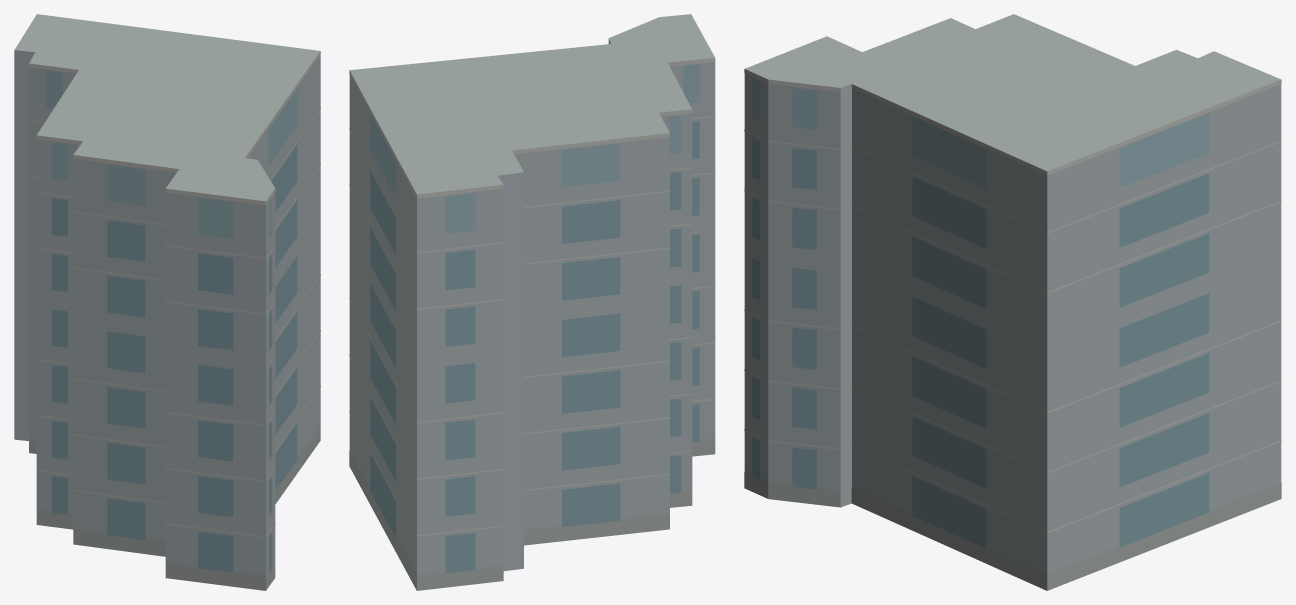
Rendered from survey-upis-32998021.glb.
The picture shows the model from 3 angles, left to right: view 1: azimuth 30°, elevation 25°; view 2: azimuth 150°, elevation 25°; view 3: azimuth 270°, elevation 25°; orthographic projection. The views are drawn at different scales.
Parts seen in each view (by area): view 1: survey-upis-32998021.tmp; view 2: survey-upis-32998021.tmp; view 3: survey-upis-32998021.tmp.
Boxes of the visible parts, x1,y1,x2,y2 form: survey-upis-32998021.tmp: [14, 14, 320, 590]; survey-upis-32998021.tmp: [349, 14, 715, 590]; survey-upis-32998021.tmp: [744, 14, 1281, 590].
Bounding box in the file's own units: 19.33 × 24 × 27.86.
